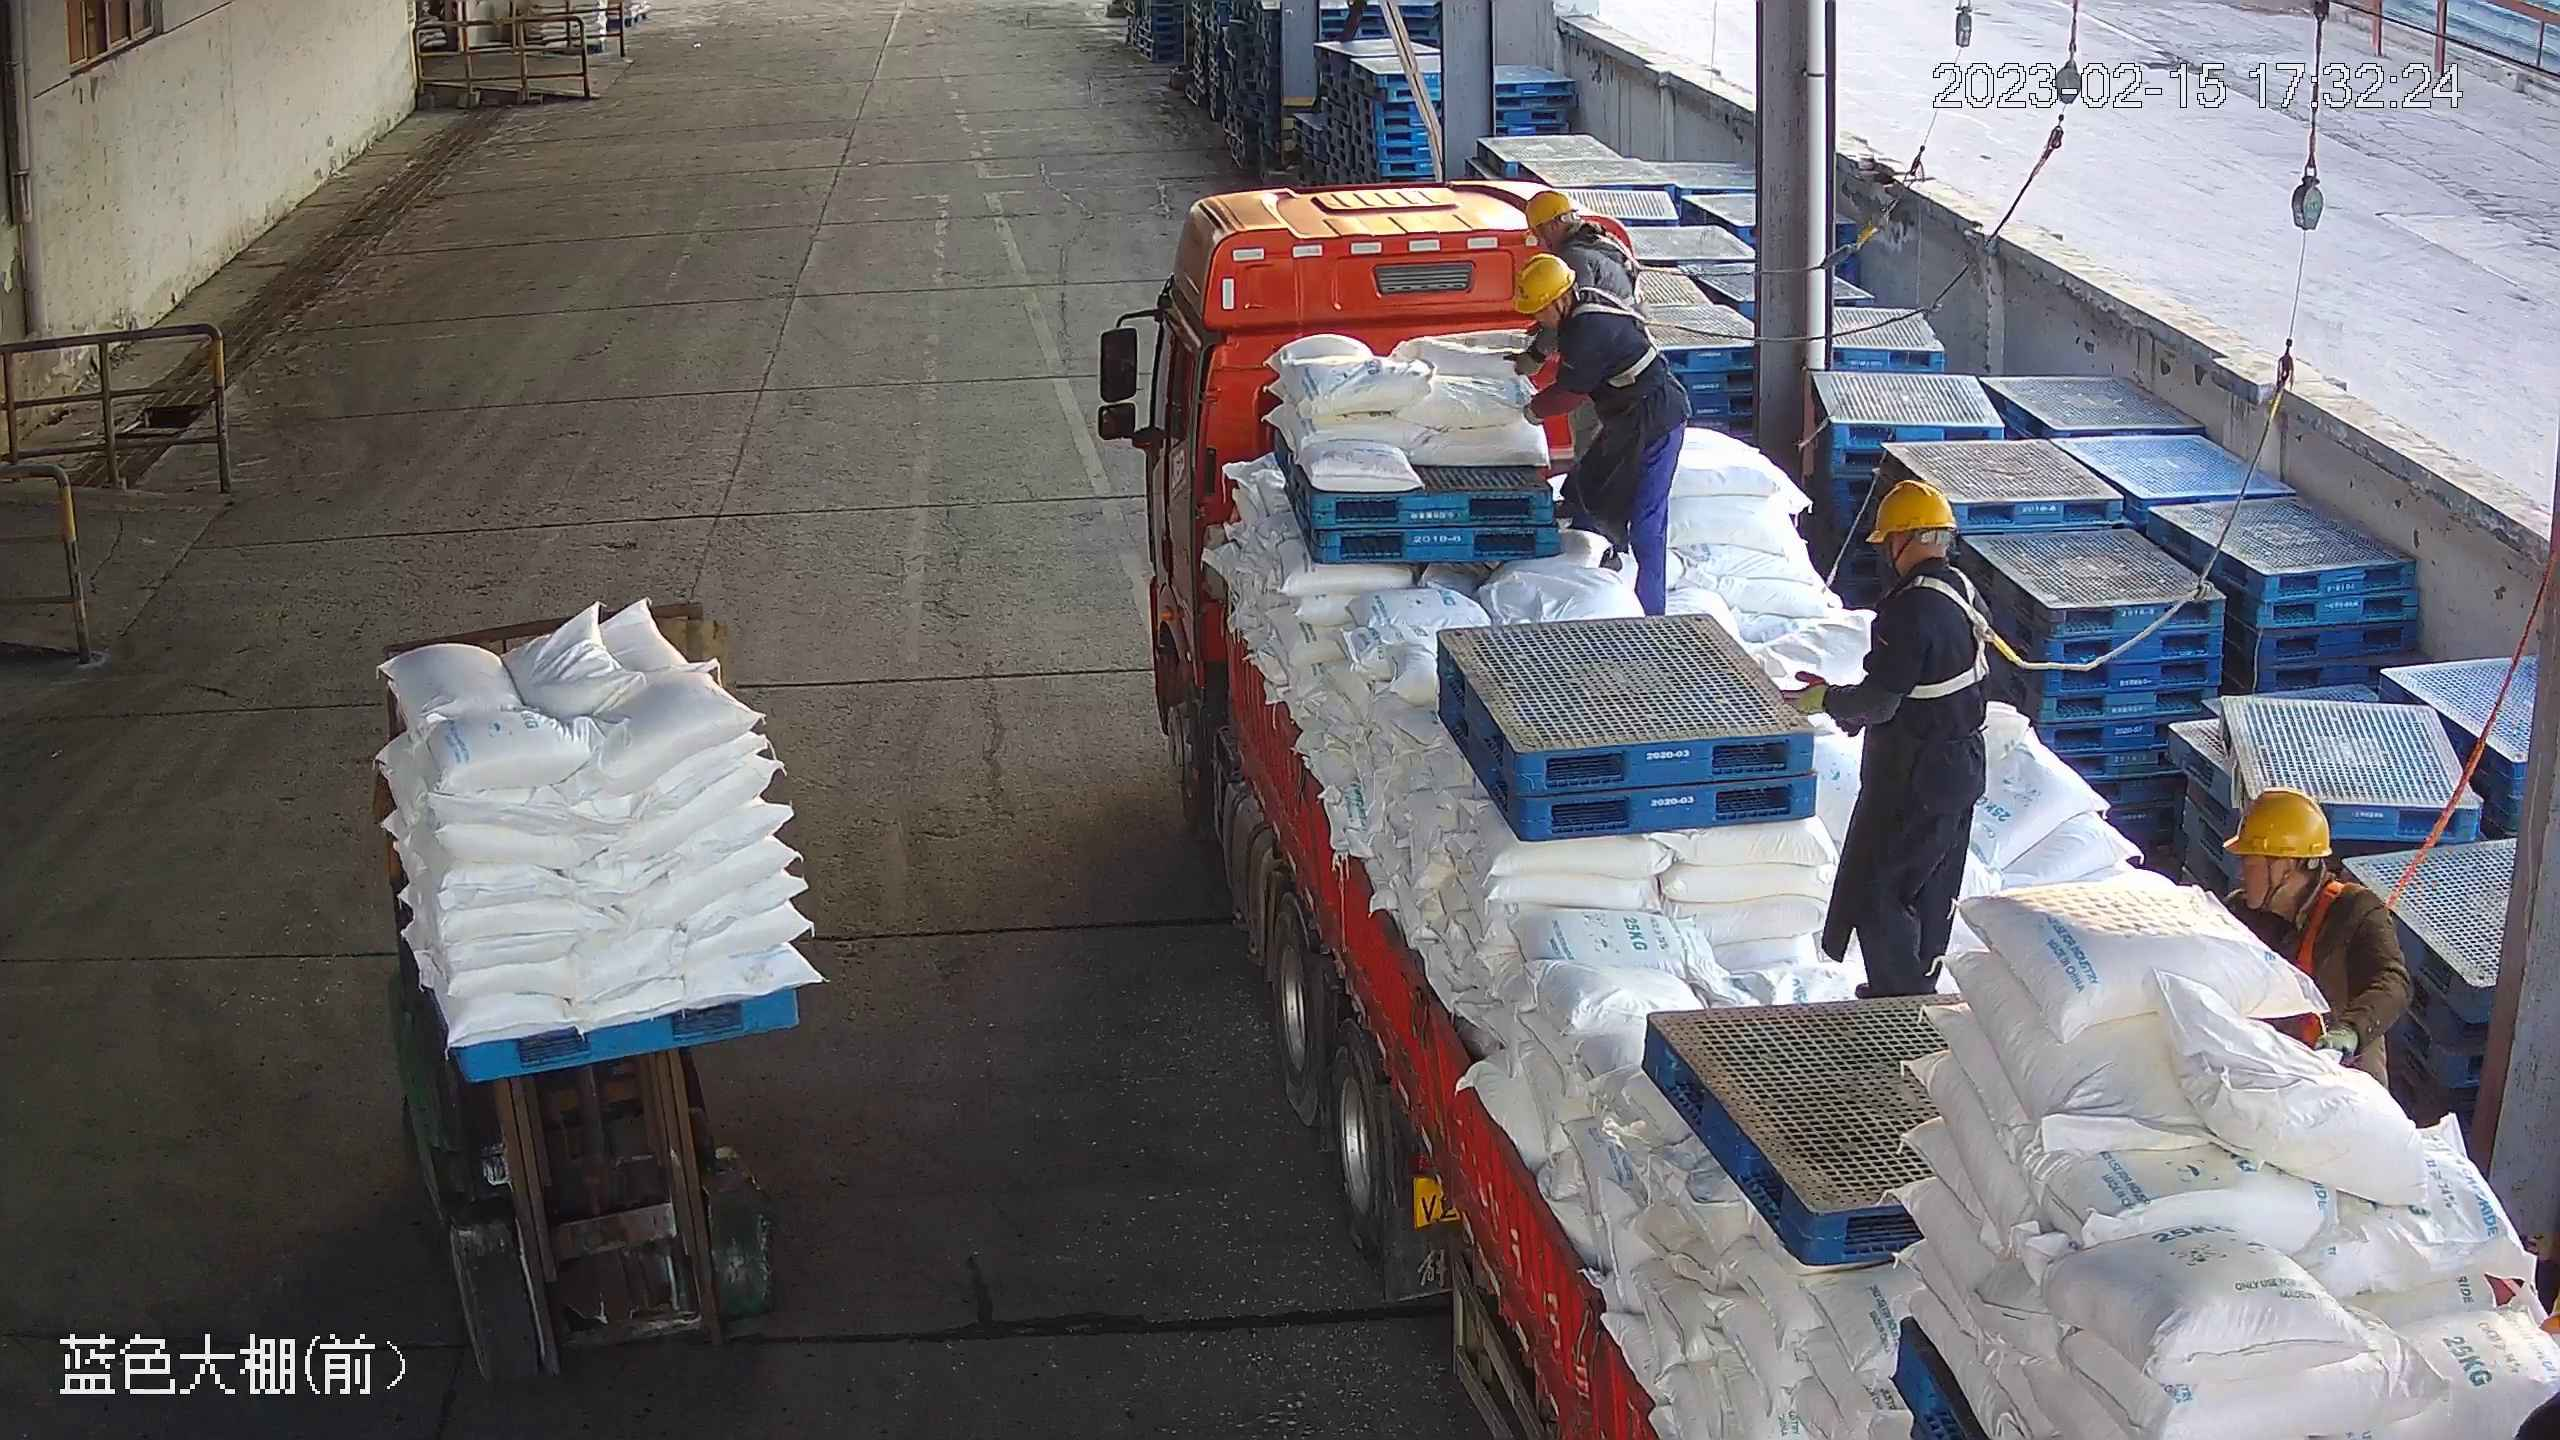belt: (2255, 881, 2411, 1055), (1882, 560, 2031, 708)
head: (2219, 787, 2403, 952), (1855, 475, 1994, 638), (1508, 251, 1658, 345), (1524, 189, 1646, 273)
helmet: (2220, 788, 2336, 860), (1862, 479, 1959, 545), (1510, 251, 1575, 314), (1523, 190, 1578, 237)
people: (1776, 478, 1997, 1001), (1509, 253, 1691, 617)
truck: (1143, 177, 2560, 1440)
